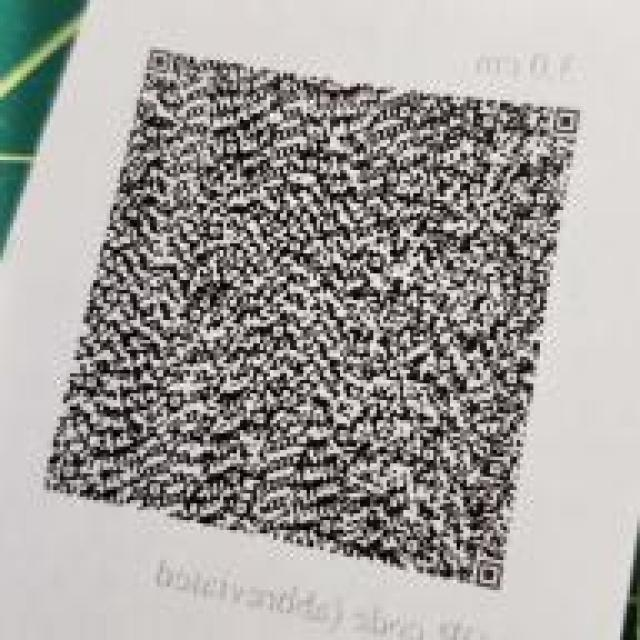QR_CODE: (23, 34, 597, 604)
